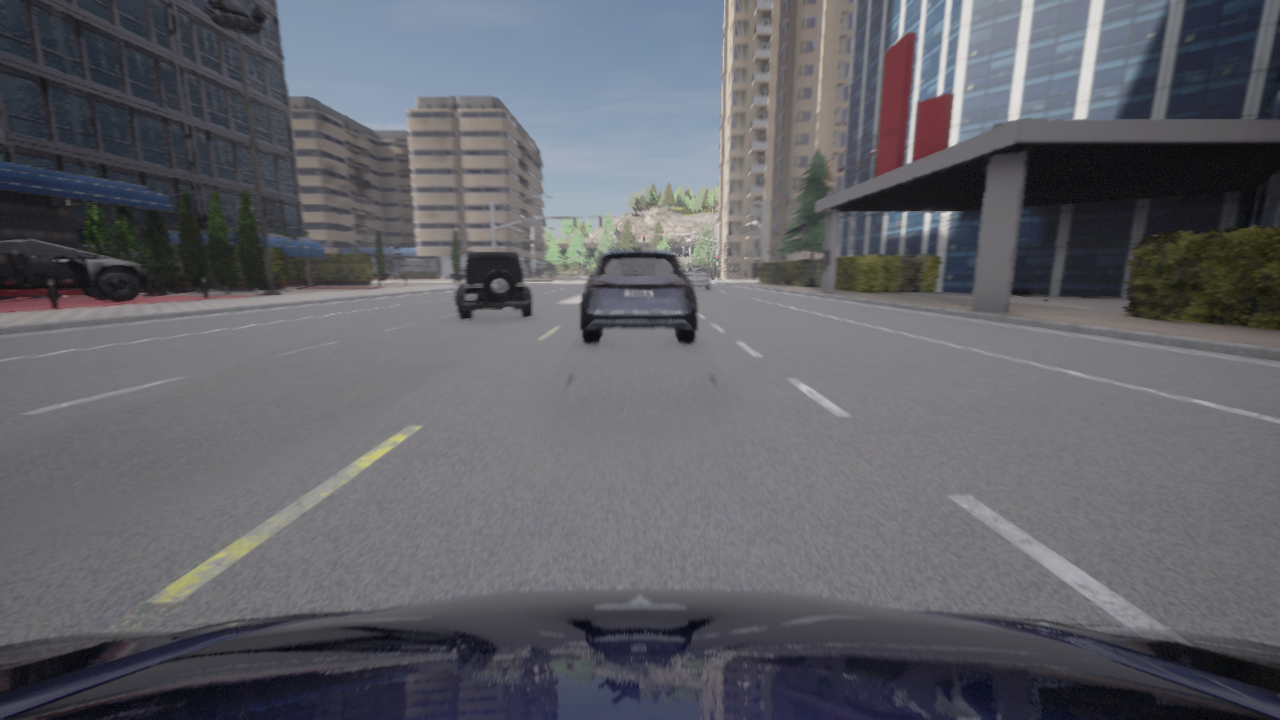cyclist: (0, 588, 1279, 719), (581, 246, 696, 342), (0, 239, 150, 301), (455, 251, 532, 318), (25, 241, 72, 256), (681, 265, 709, 289), (0, 242, 22, 253), (78, 252, 103, 257), (31, 255, 57, 257)
